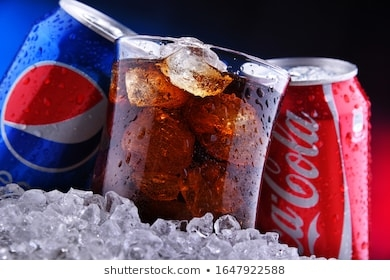glass: (93, 29, 298, 246)
metal: (228, 46, 376, 260), (1, 1, 144, 211)
